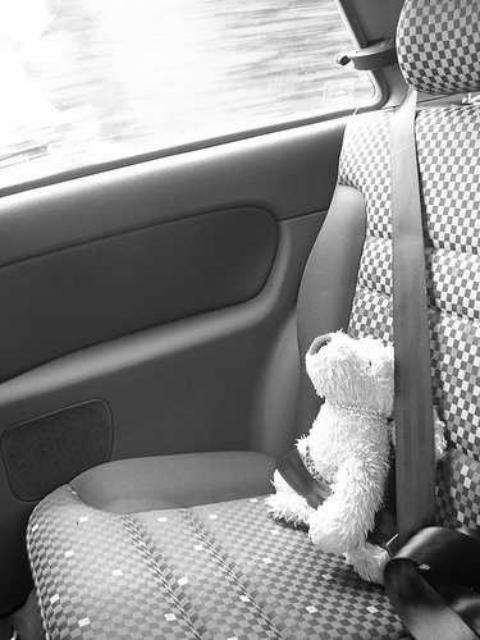Seatbelt: (272, 88, 446, 586)
